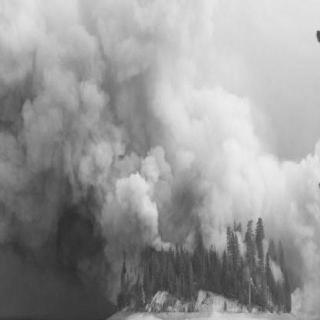Fire: (111, 243, 157, 303)
